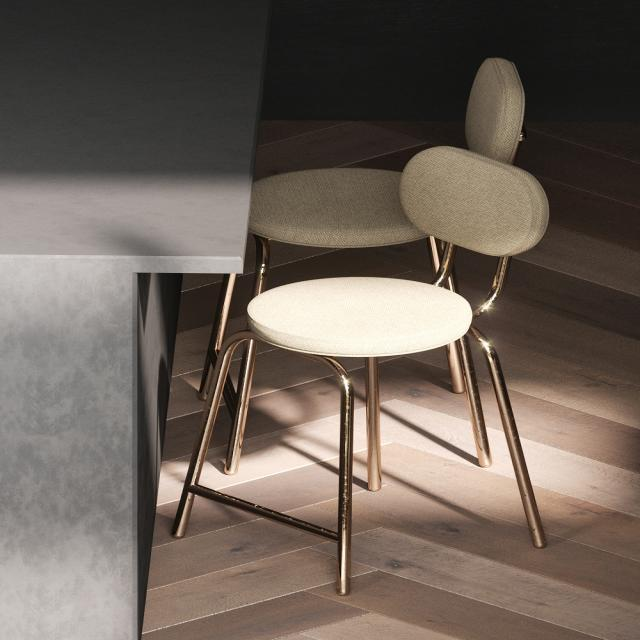chair: (171, 143, 550, 595)
